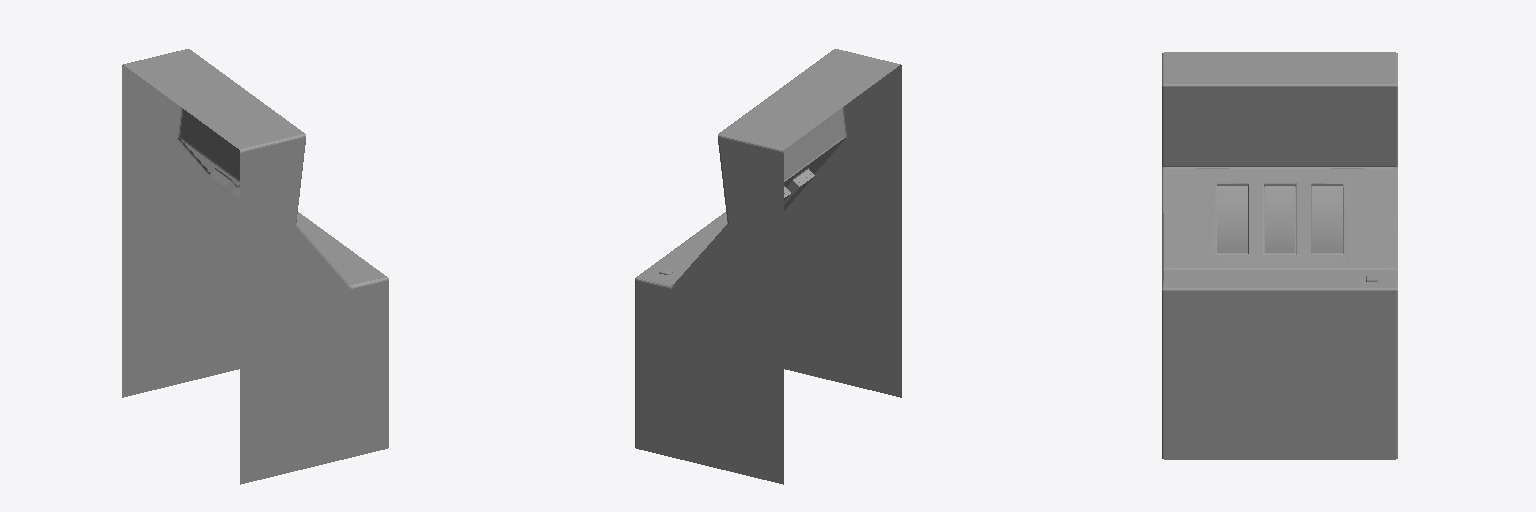
3 renders of one model, left to right at view 1: azimuth 30°, elevation 25°; view 2: azimuth 150°, elevation 25°; view 3: azimuth 270°, elevation 25°, orthographic.
Parts seen in each view (by area): view 1: Machine_Body; view 2: Machine_Body; view 3: Machine_Body, Reel3, Reel1, Reel2.
Boxes of the visible parts, <box> form: Machine_Body: <box>122,49,388,484</box>; Machine_Body: <box>635,49,901,484</box>; Machine_Body: <box>1162,52,1397,459</box>; Reel3: <box>1312,186,1342,252</box>; Reel1: <box>1217,186,1247,252</box>; Reel2: <box>1265,186,1294,252</box>.
Bounding box in the file's own units: 1.46 × 3.11 × 2.